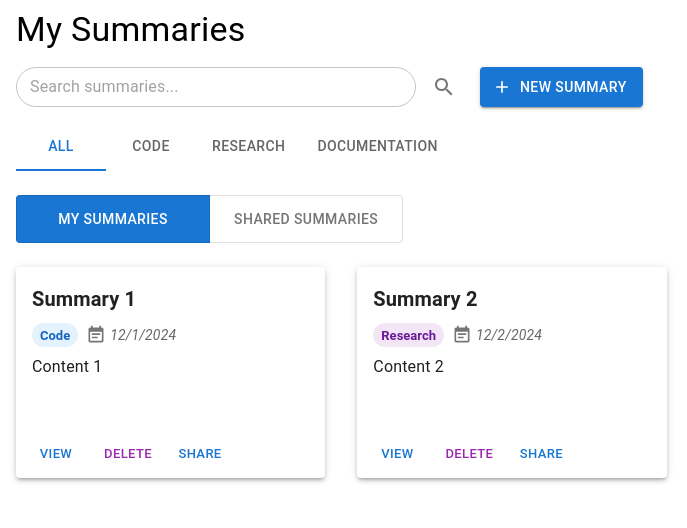
Test: SummariesList Component › fetches and displays shared summaries when view is switched
Expected: the heading "Summary 1" is shown, [32,288,136,312]
// Find and click the toggle to switch to shared summaries
Click the button "Shared Summaries". click: (306, 219)
box: [209,195,403,244]
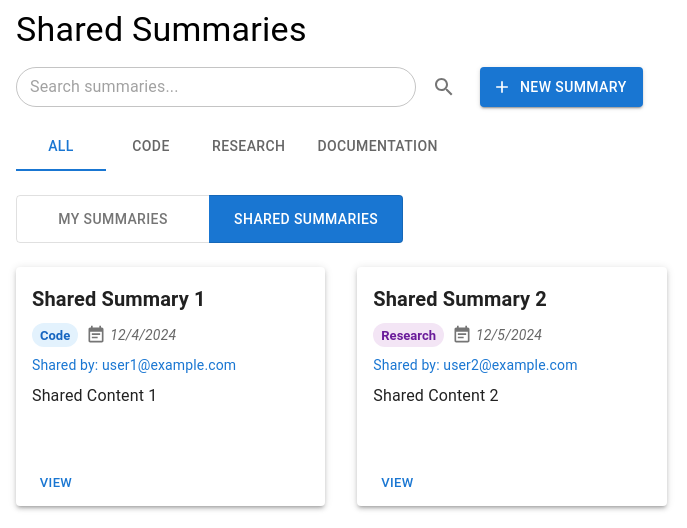
Result: the heading "Shared Summary 1" is shown at [32,288,206,312]
Result: the heading "Shared Summary 2" is shown at [373,288,547,312]
Result: the text "Shared by: user1@example.com" is shown at [32,358,236,374]
